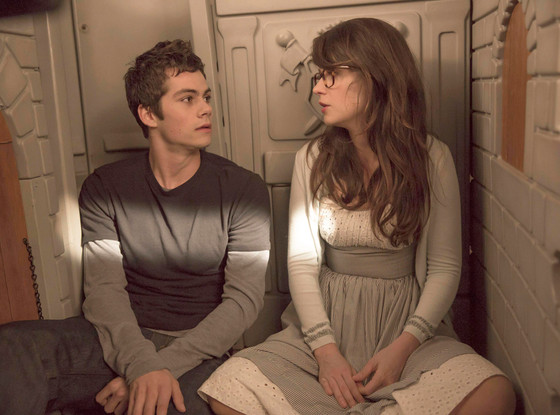person: (226, 26, 515, 413), (10, 34, 273, 396)
